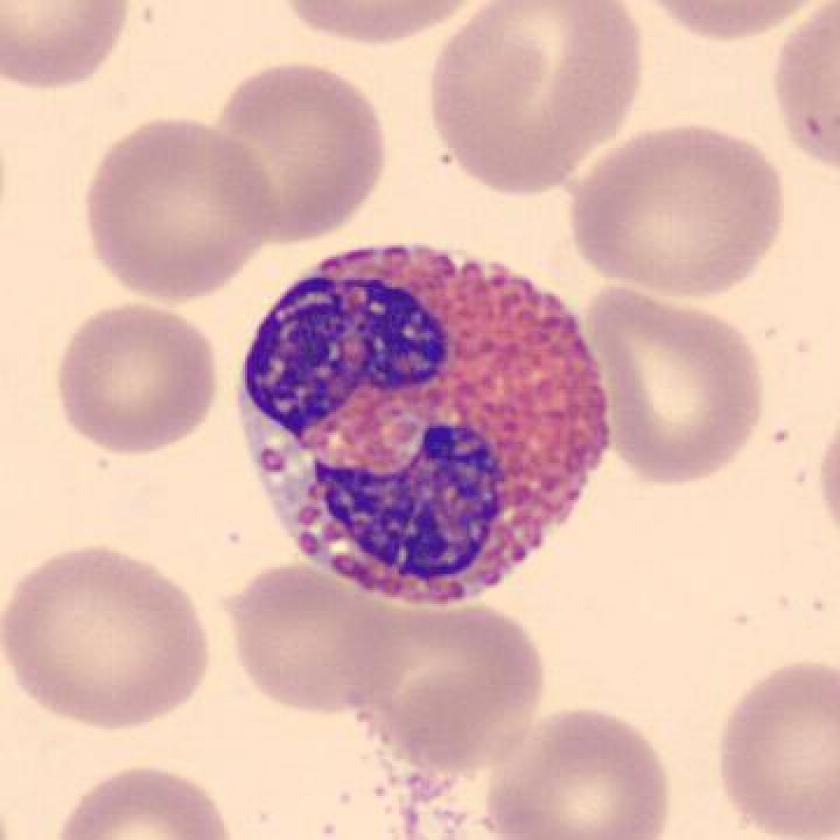eosinophil: (230, 226, 626, 617)
